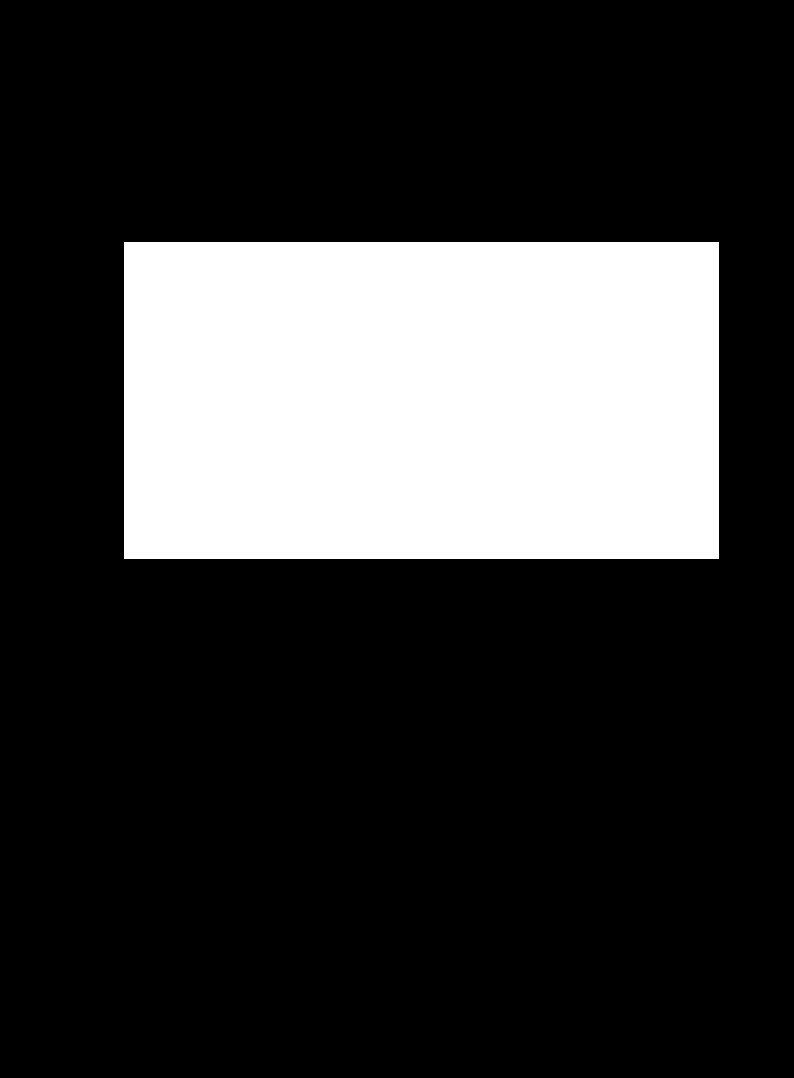table: (124, 242, 718, 558)
